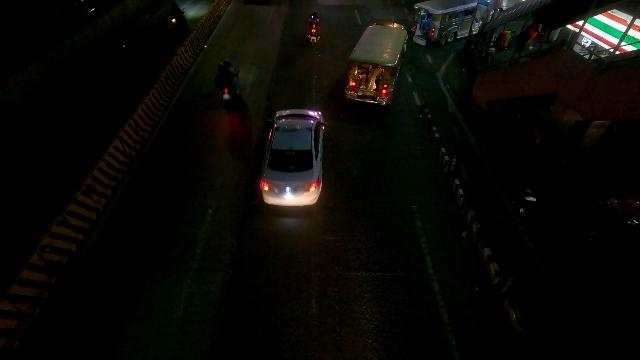car: (261, 108, 326, 206)
jeepney: (345, 21, 408, 105), (410, 0, 500, 48)
motorcycle: (216, 60, 242, 105), (309, 10, 321, 46)
